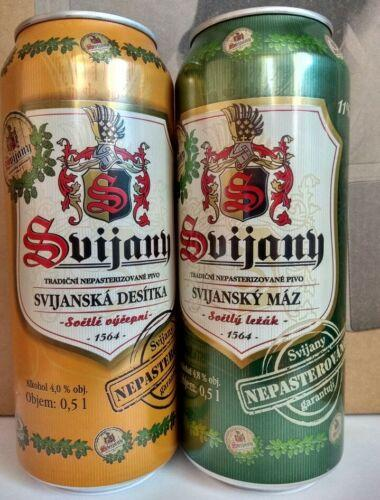metal: (175, 6, 356, 489), (3, 13, 180, 490)
